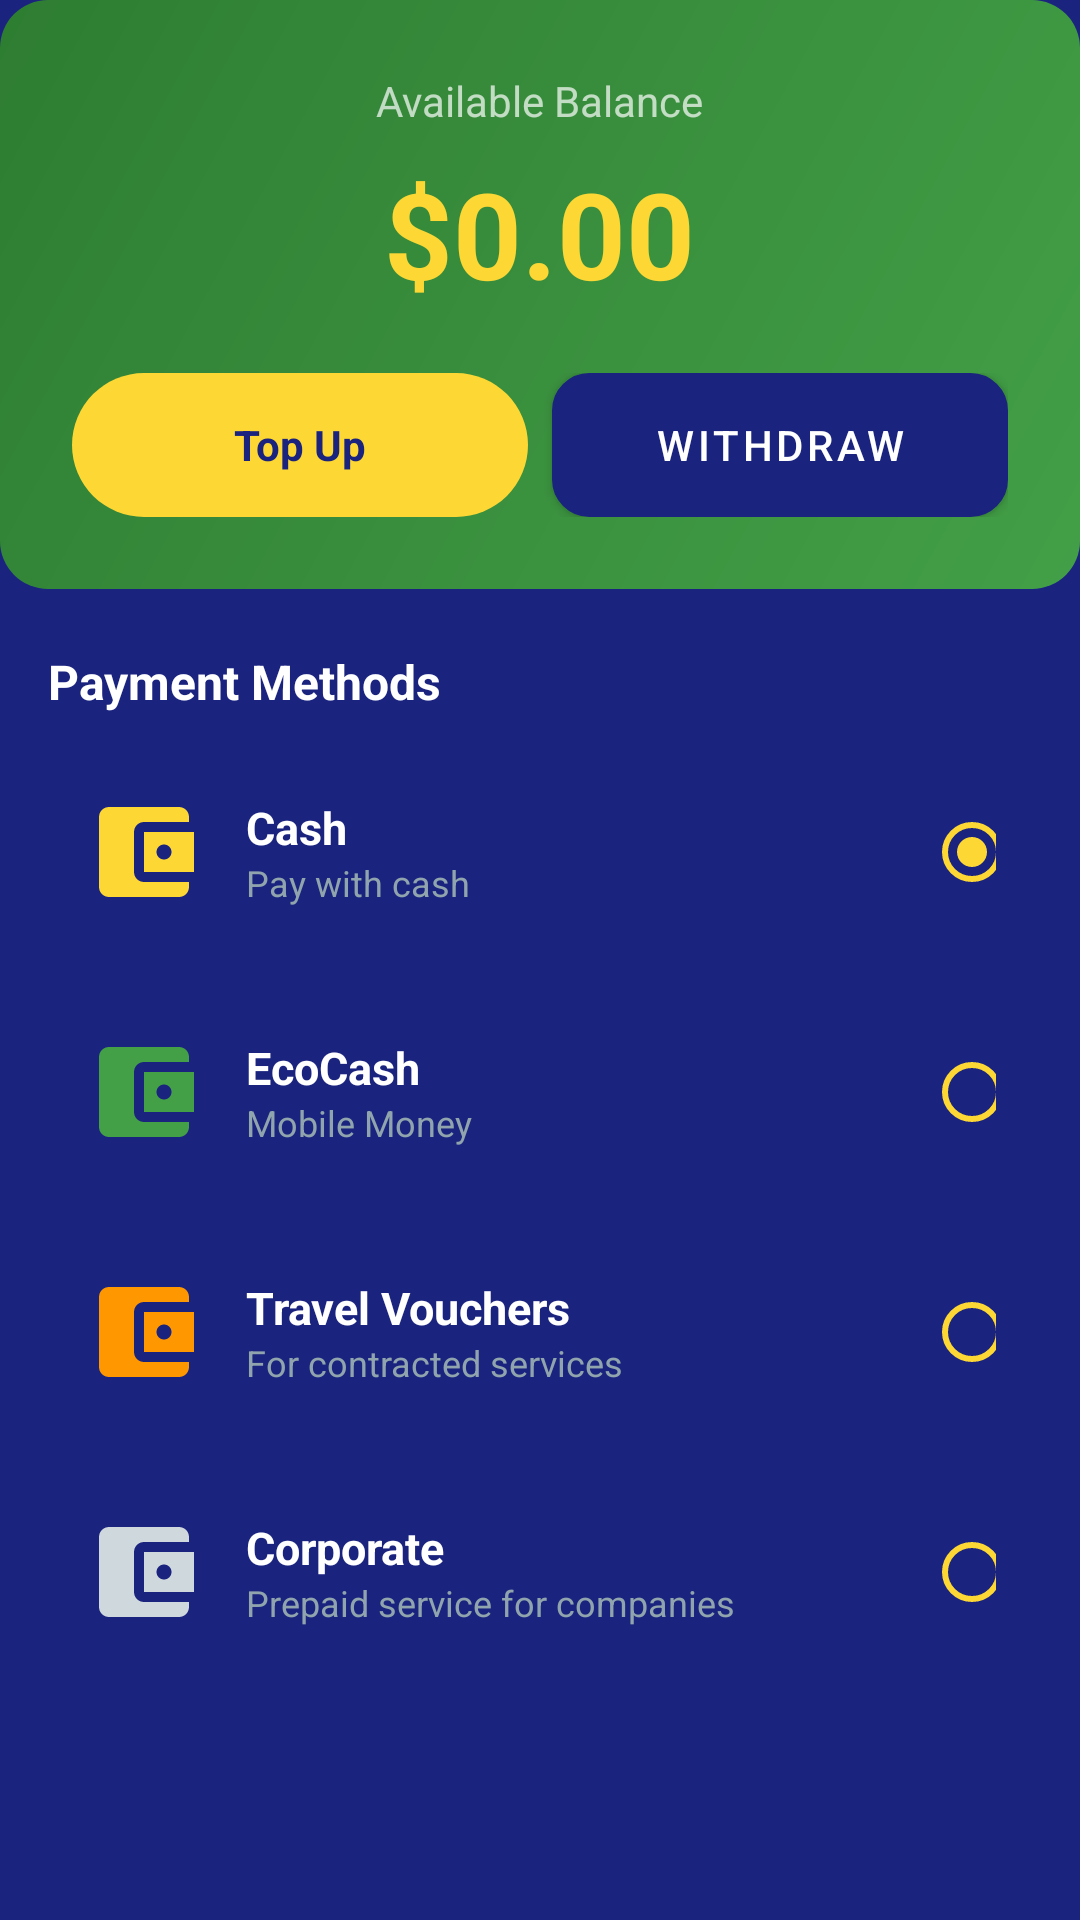

Where icons sit on this 1080 × 1920 app screen, as {"x1": x1, "y1": y1, "x2": x2, "y2": y2}:
wallet: {"x1": 99, "y1": 807, "x2": 194, "y2": 897}, {"x1": 99, "y1": 1047, "x2": 194, "y2": 1137}, {"x1": 99, "y1": 1287, "x2": 194, "y2": 1377}, {"x1": 99, "y1": 1527, "x2": 194, "y2": 1617}
